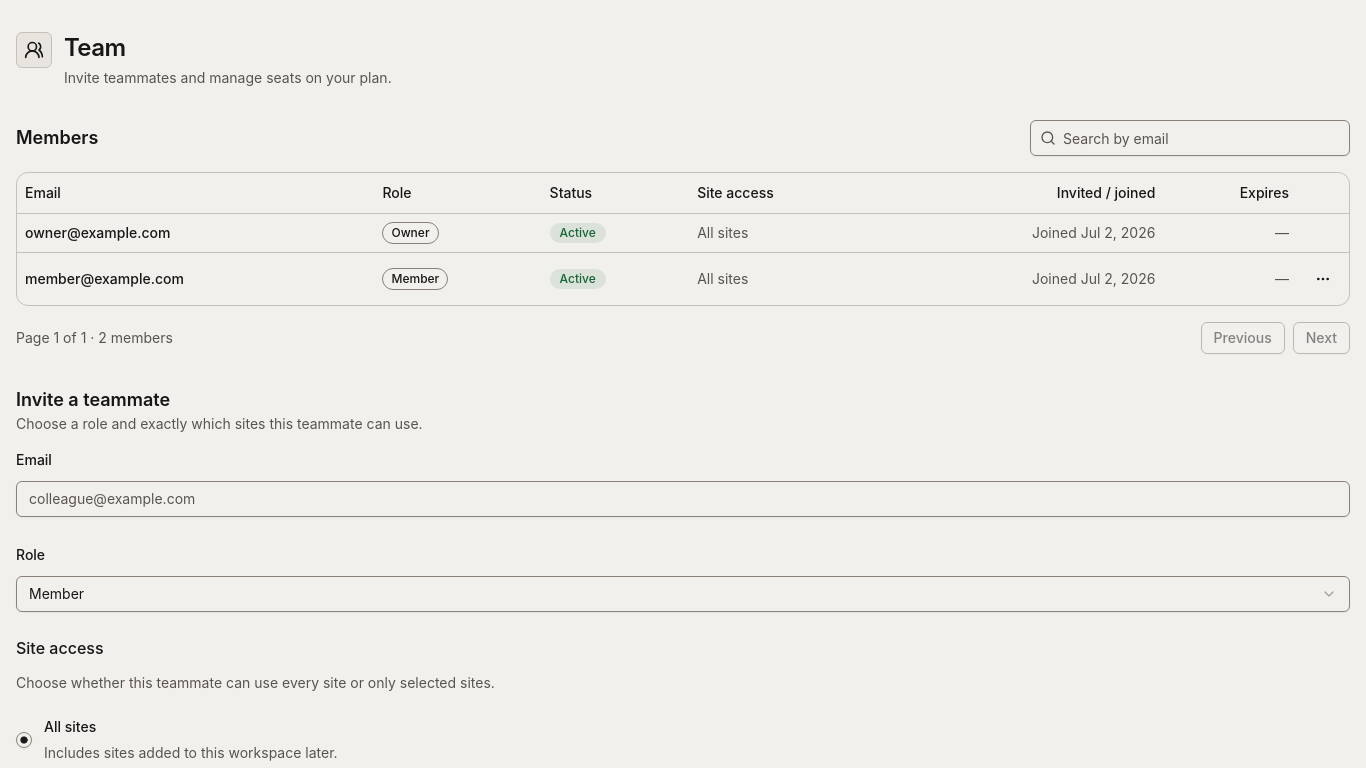
Scenario: owner access editing › validates an empty selected scope and lets the owner cancel
Click the button with test id "member-actions-m-1": coordinates (1323, 278) [1305,260,1341,296]
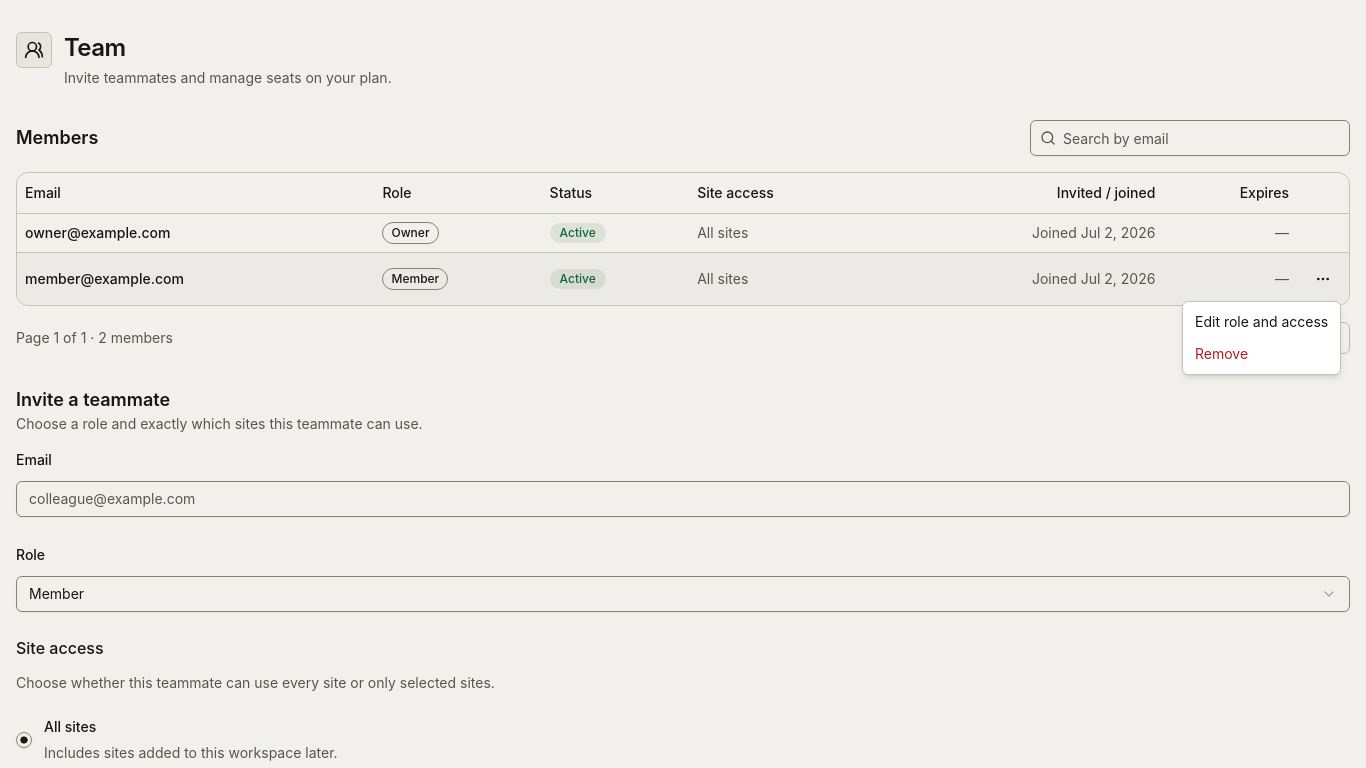
Click the menu item "Edit role and access": coordinates (1262, 322) [1195,313,1328,330]
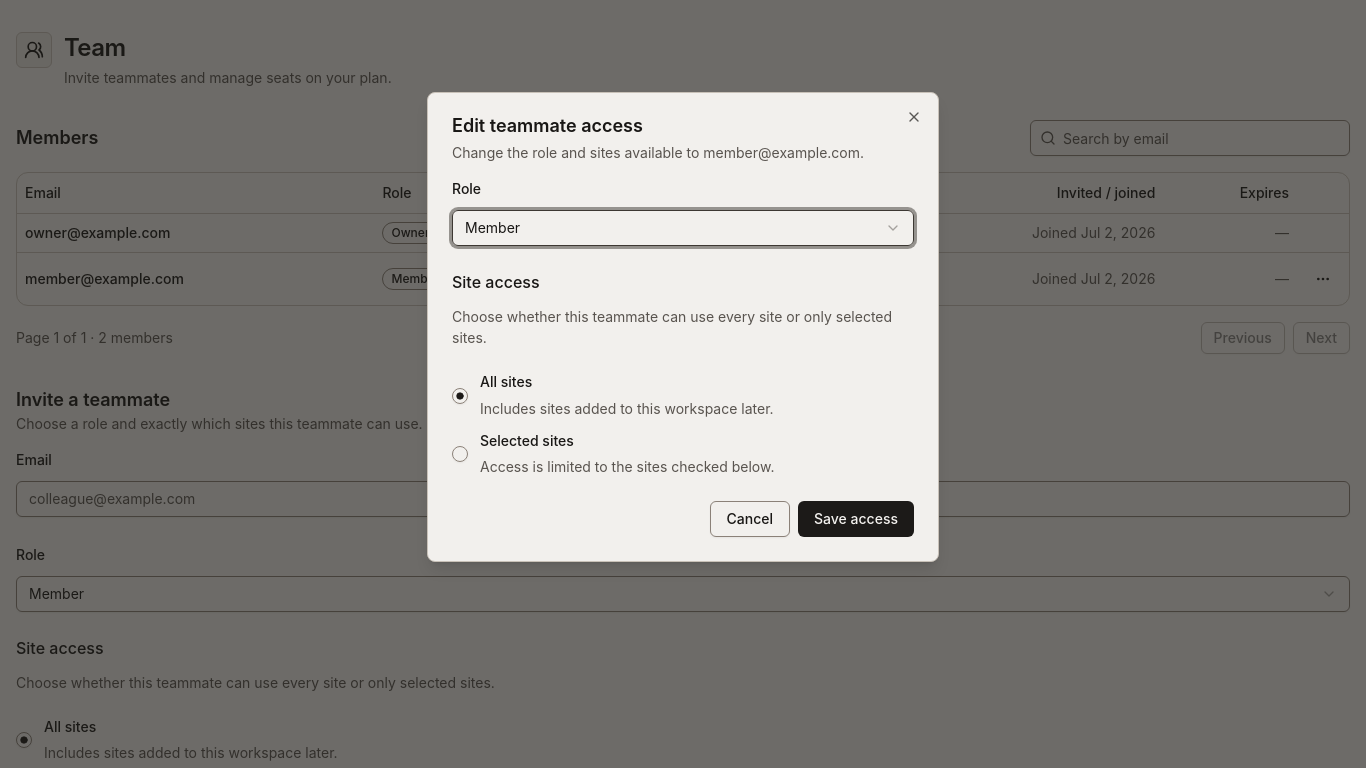
Expected: the 2nd radio button named "Selected sites" is enabled
Click the 2nd radio button named "Selected sites": coordinates (460, 454) [452,446,468,462]
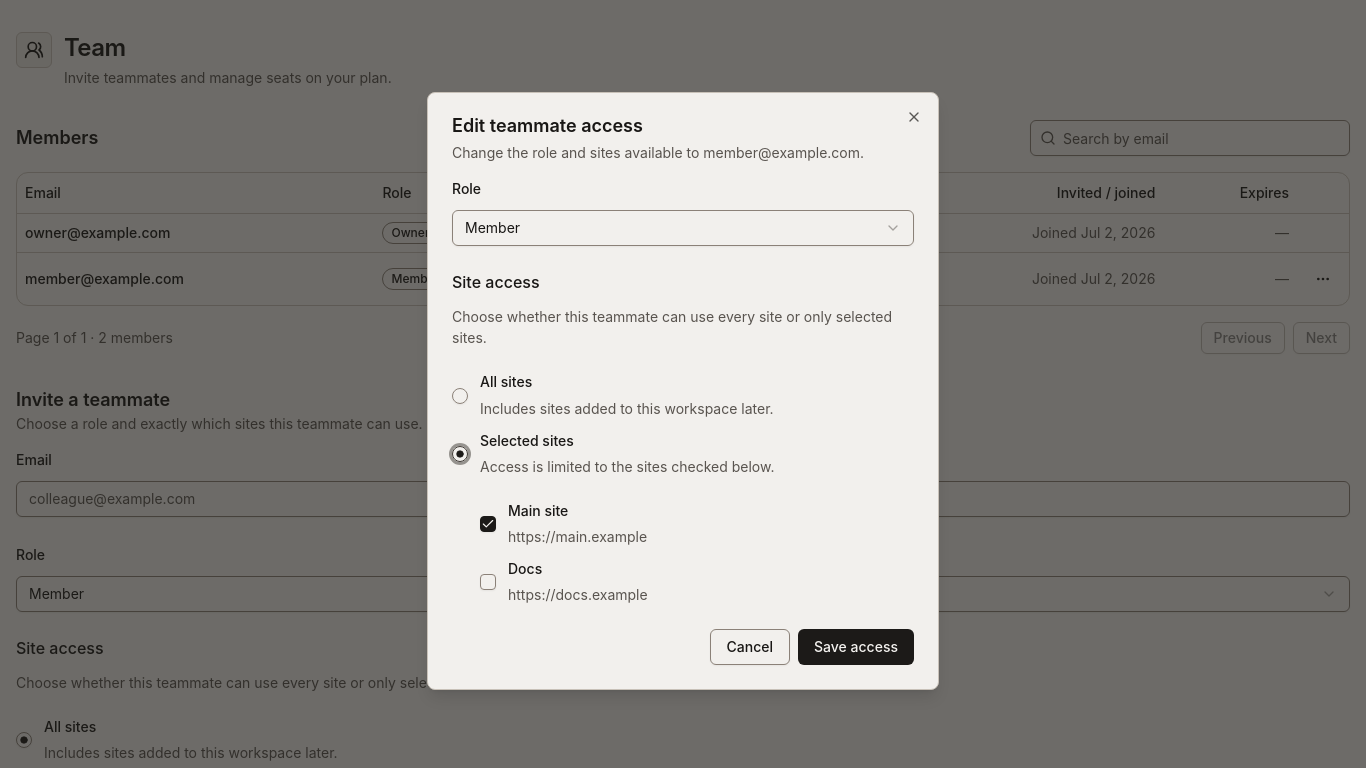
Click the checkbox named "Main site" next to "Main site": coordinates (488, 524) [480,516,496,532]
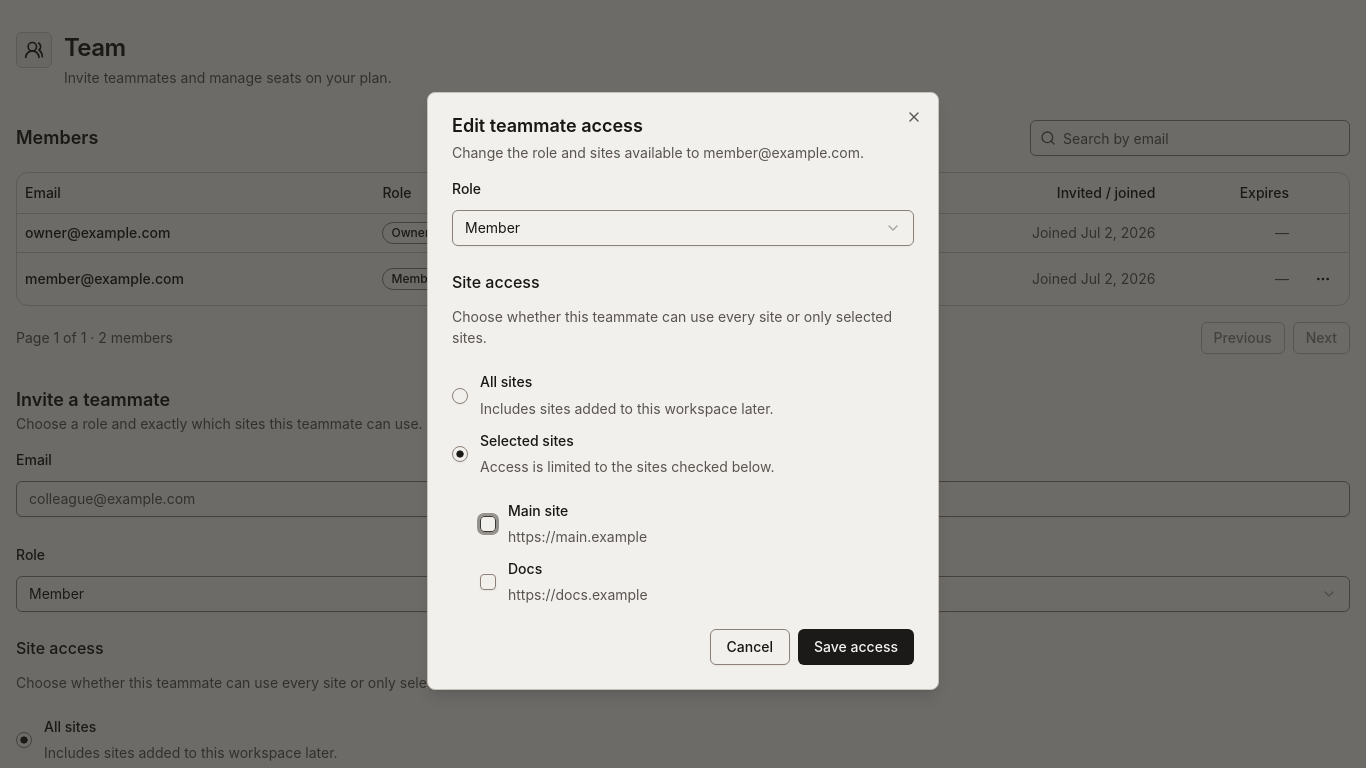
Click the button "Save access": coordinates (856, 647) [798,629,914,665]
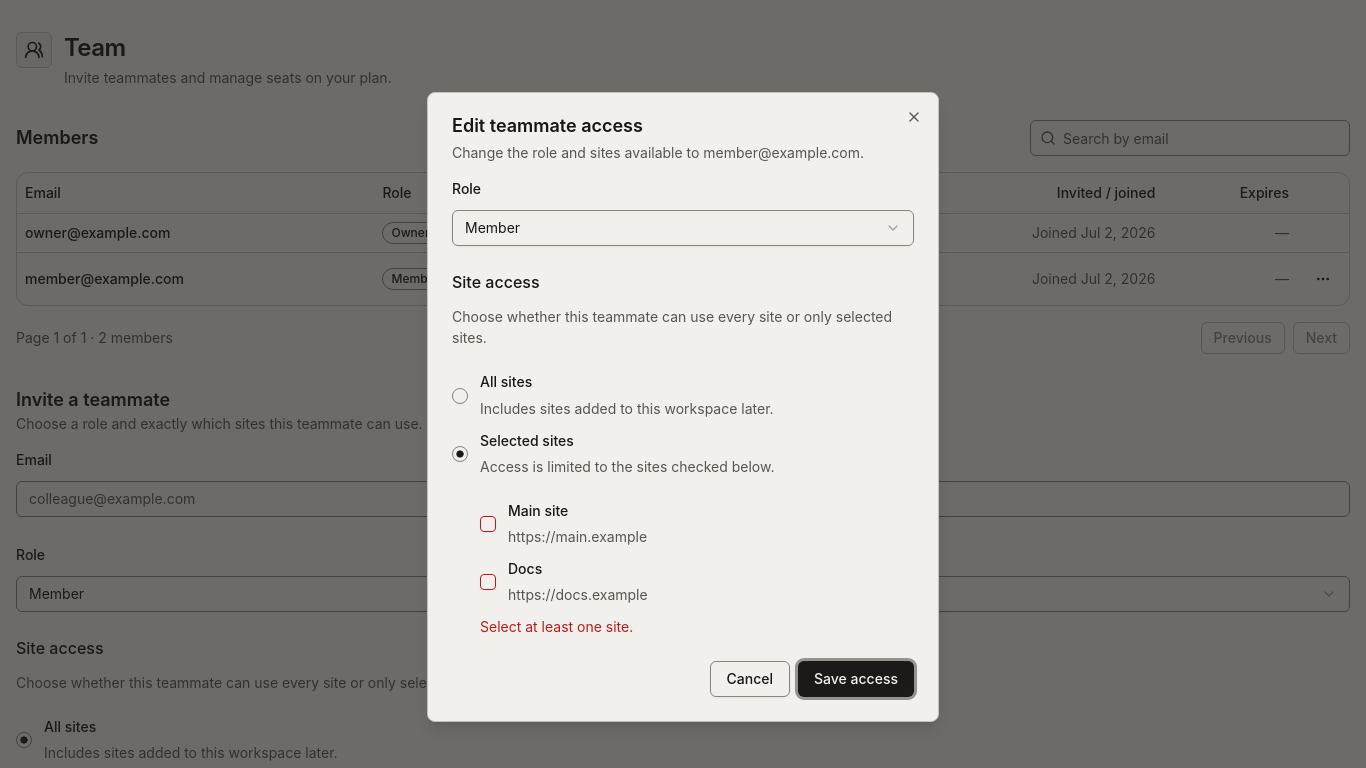
Expected: the message reads "Select at least one site.", [480,618,633,635]
Click the button "Cancel": coordinates (750, 679) [710,661,790,697]
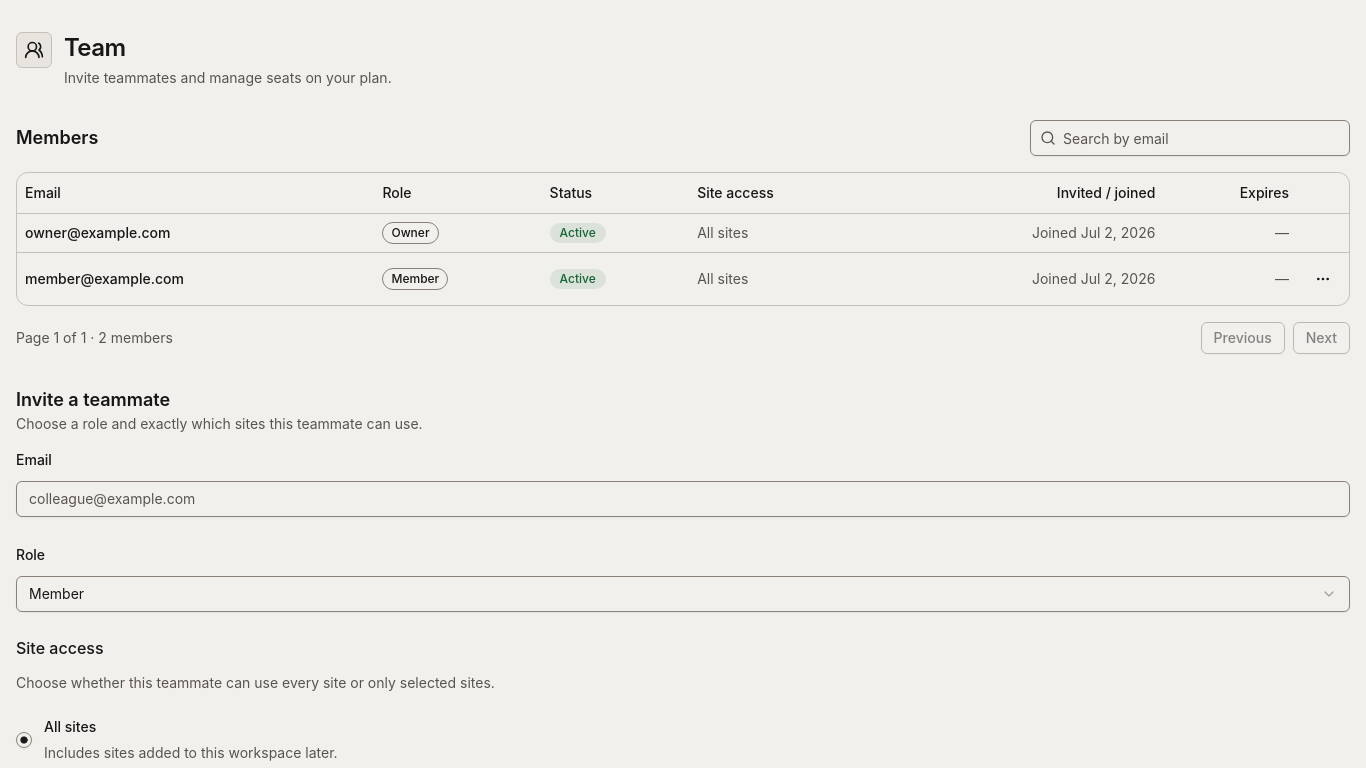
Expected: the dialog is gone
